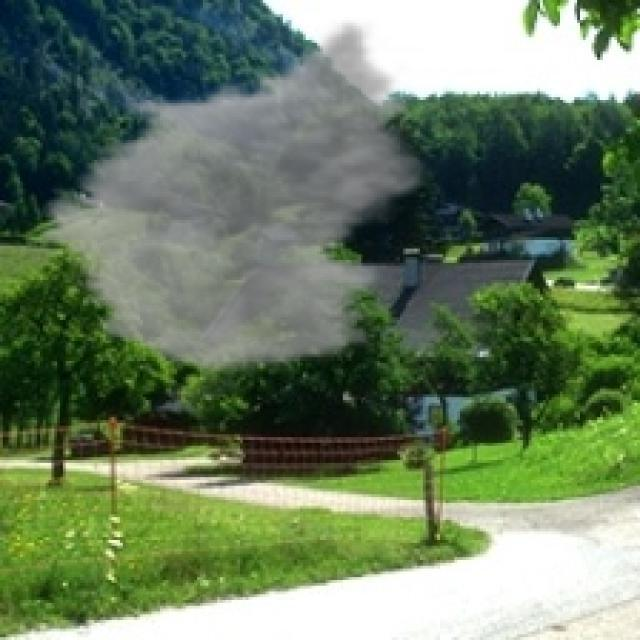Smoke: (29, 17, 438, 377)
